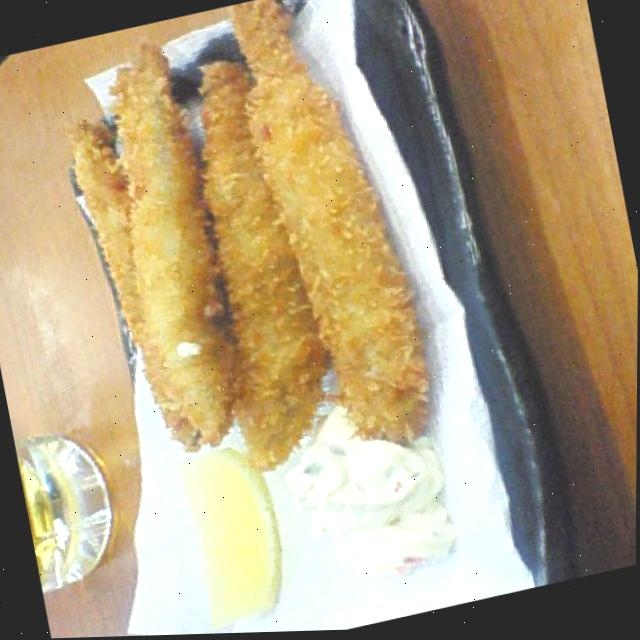炸货点心: (37, 0, 450, 522)
熟制海鲜: (37, 0, 450, 522)
